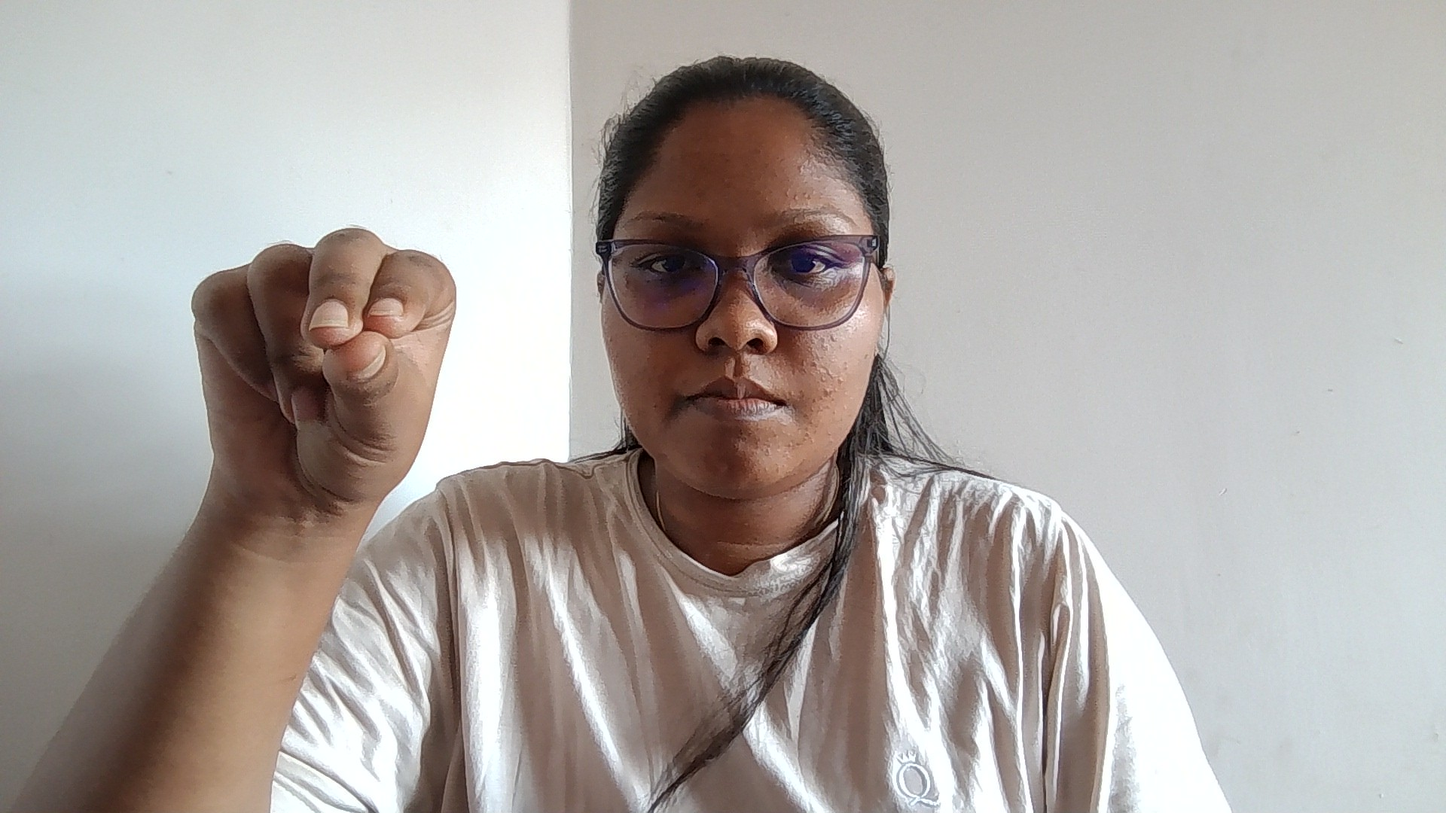No: (102, 219, 518, 665)
